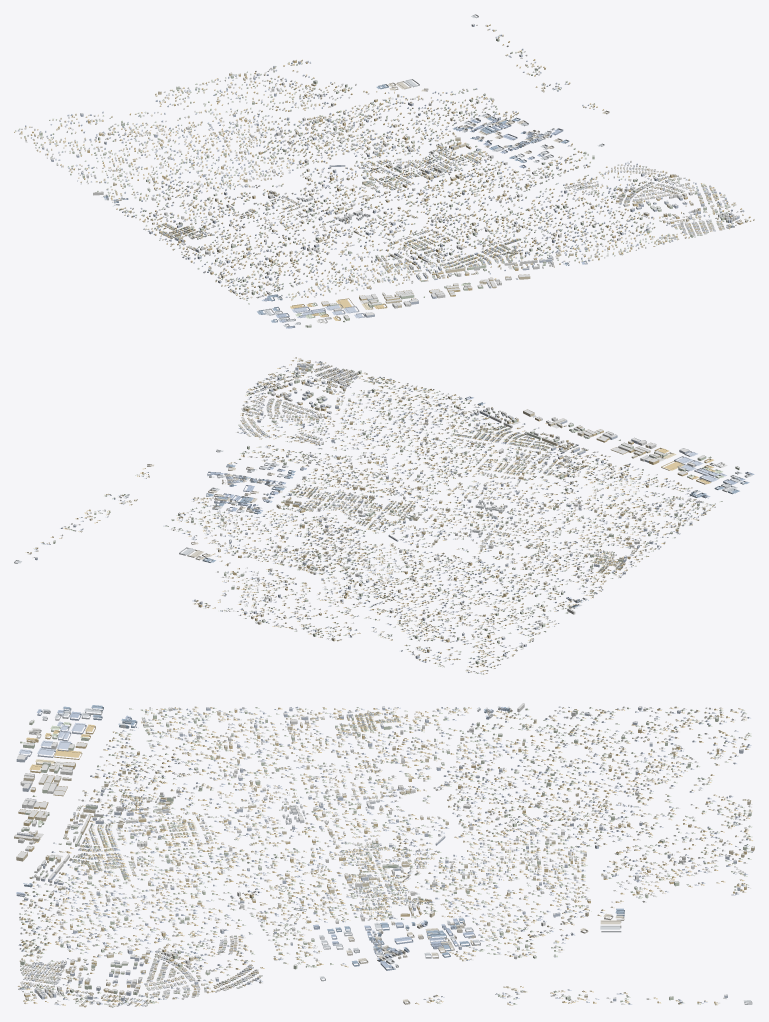
3 renders of one model, top to bottom at view 1: azimuth 30°, elevation 25°; view 2: azimuth 150°, elevation 25°; view 3: azimuth 270°, elevation 25°, orthographic. The views are drawn at different scales.
Parts seen in each view (by area): view 1: house, roof_zinc, apartment, roof_flat, factory; view 2: house, roof_zinc, apartment, roof_flat, factory; view 3: house, roof_zinc, apartment, roof_flat, factory.
Part boxes in pixels (x1=…): house: x1=14, y1=24, x2=754, y2=322; roof_zinc: x1=14, y1=15, x2=754, y2=328; apartment: x1=39, y1=24, x2=747, y2=327; roof_flat: x1=40, y1=24, x2=747, y2=325; factory: x1=103, y1=14, x2=609, y2=328; house: x1=27, y1=357, x2=722, y2=674; roof_zinc: x1=17, y1=358, x2=754, y2=674; apartment: x1=35, y1=359, x2=739, y2=664; roof_flat: x1=35, y1=359, x2=739, y2=661; factory: x1=14, y1=396, x2=751, y2=608; house: x1=18, y1=706, x2=750, y2=1005; roof_zinc: x1=16, y1=705, x2=752, y2=1006; apartment: x1=14, y1=703, x2=754, y2=1007; roof_flat: x1=14, y1=703, x2=754, y2=1006; factory: x1=16, y1=706, x2=752, y2=1004.
Bounding box in the file's own units: 1.41e+08 × 733508 × 1.47e+08.
